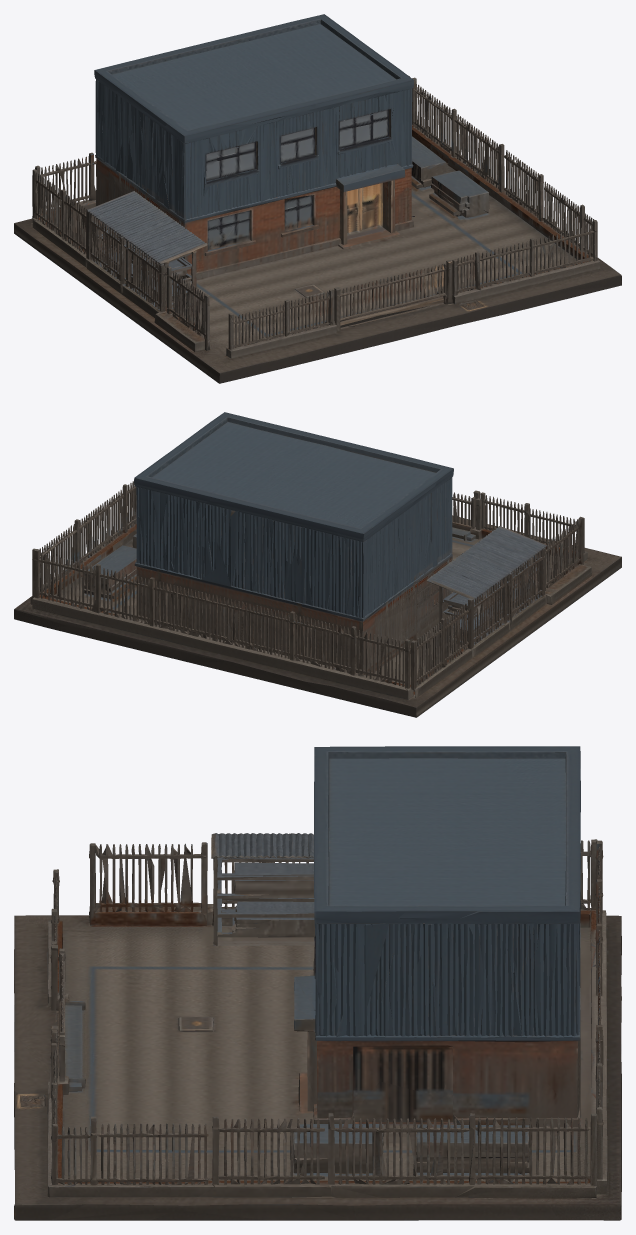
The model's file is building_lumber_mill.glb.
The picture shows the model from 3 angles, top to bottom: view 1: azimuth 30°, elevation 25°; view 2: azimuth 150°, elevation 25°; view 3: azimuth 270°, elevation 25°; orthographic projection. The views are drawn at different scales.
Parts seen in each view (by area): view 1: output_unwrapped; view 2: output_unwrapped; view 3: output_unwrapped.
Part boxes in pixels (x1,y1,x2,y2): output_unwrapped: (14,14,621,383); output_unwrapped: (14,412,621,717); output_unwrapped: (14,746,621,1220).
Bounding box in the file's own units: 1.9 × 0.712 × 1.68.
Materials: 1 (1 with a texture image).
